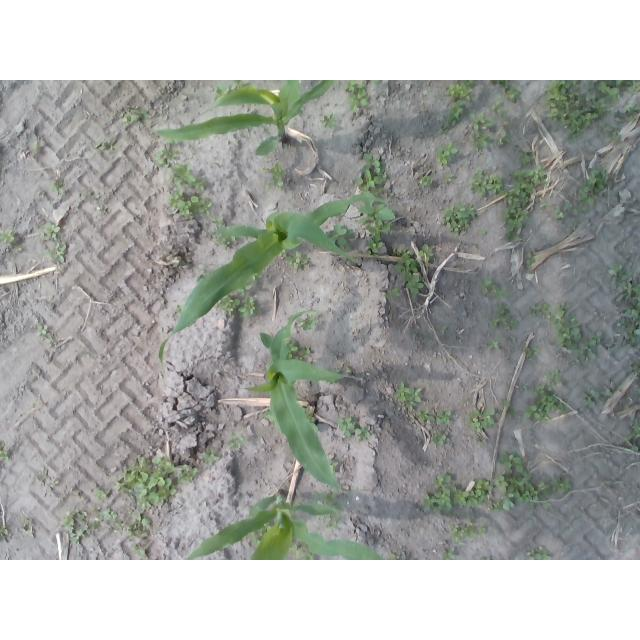Maize: (158, 191, 386, 362), (242, 310, 359, 494), (181, 490, 388, 560), (152, 81, 337, 156)
Weeds: (544, 81, 612, 144), (502, 165, 551, 242), (115, 454, 178, 510), (421, 475, 493, 518), (493, 451, 540, 513), (608, 263, 640, 345), (357, 191, 395, 257), (521, 381, 568, 424), (392, 248, 425, 297), (549, 303, 582, 350), (352, 154, 388, 195), (441, 203, 479, 238), (167, 189, 212, 218), (577, 168, 608, 207), (590, 81, 640, 104), (170, 162, 207, 191), (60, 508, 88, 544), (469, 168, 503, 196), (213, 80, 256, 102), (573, 332, 603, 363), (342, 80, 371, 112), (438, 101, 466, 134), (393, 382, 421, 413), (554, 202, 586, 226), (490, 303, 518, 330), (259, 162, 286, 189), (490, 80, 523, 102), (467, 408, 496, 433), (125, 512, 152, 538), (327, 223, 354, 249), (450, 520, 478, 545), (476, 278, 508, 299), (445, 80, 475, 102), (436, 140, 461, 164), (285, 339, 312, 361), (250, 521, 274, 545), (582, 387, 614, 405), (213, 295, 241, 315), (310, 490, 338, 510), (624, 418, 640, 452), (286, 541, 314, 560), (238, 297, 263, 318), (286, 250, 311, 270), (123, 105, 150, 123), (154, 147, 176, 169), (301, 408, 320, 433), (335, 418, 356, 439), (0, 230, 22, 250), (44, 243, 66, 263), (600, 122, 620, 143), (470, 112, 494, 129), (178, 464, 198, 484), (40, 222, 60, 241), (621, 102, 640, 122), (91, 139, 118, 153), (229, 432, 248, 451), (297, 312, 316, 331), (526, 546, 551, 560), (35, 325, 53, 344), (473, 131, 491, 150), (200, 449, 220, 466), (216, 234, 236, 251), (492, 130, 512, 147), (498, 399, 516, 417), (552, 478, 572, 494), (529, 303, 551, 317), (414, 409, 434, 424), (490, 101, 509, 116), (627, 356, 640, 377), (354, 426, 370, 443), (524, 252, 540, 269), (131, 545, 149, 560), (420, 244, 435, 261), (537, 480, 552, 496), (196, 264, 209, 282), (325, 515, 340, 530), (436, 412, 453, 425), (0, 441, 10, 463), (432, 431, 446, 446), (321, 114, 336, 128), (544, 369, 563, 380), (236, 284, 252, 297), (384, 288, 401, 300), (20, 526, 35, 539), (51, 182, 66, 195), (442, 548, 457, 561), (102, 508, 118, 520), (523, 346, 539, 358), (419, 174, 433, 187), (519, 152, 533, 164), (262, 410, 274, 423), (213, 217, 227, 228), (329, 459, 339, 473), (94, 489, 106, 500), (113, 521, 124, 533), (444, 173, 456, 184), (488, 339, 501, 349), (542, 499, 554, 509), (92, 518, 101, 530), (0, 525, 10, 535), (32, 140, 40, 152), (252, 272, 263, 280), (389, 552, 400, 560), (478, 526, 486, 535), (174, 306, 182, 314), (480, 228, 488, 236), (326, 380, 338, 385), (280, 248, 287, 256), (344, 365, 352, 372), (441, 326, 448, 334), (293, 499, 300, 505), (332, 369, 340, 374), (372, 80, 382, 84), (472, 243, 478, 249), (481, 557, 492, 560), (96, 206, 102, 211)
